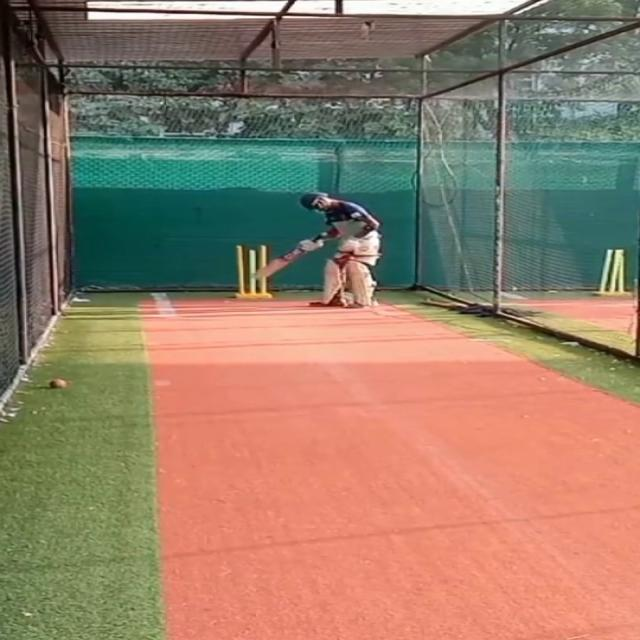ball: (44, 376, 69, 391)
stump: (231, 241, 275, 299), (595, 247, 629, 297)
